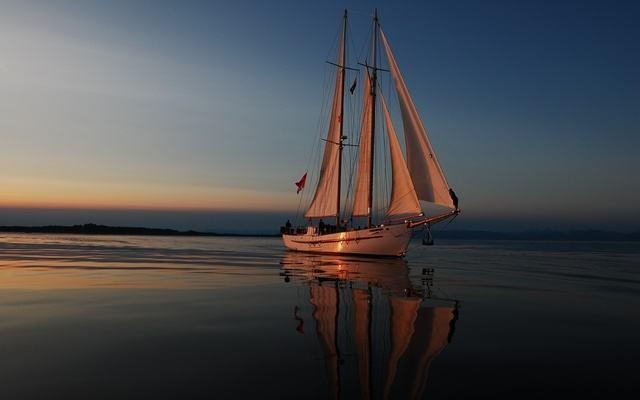fanchuan: (280, 2, 461, 255)
